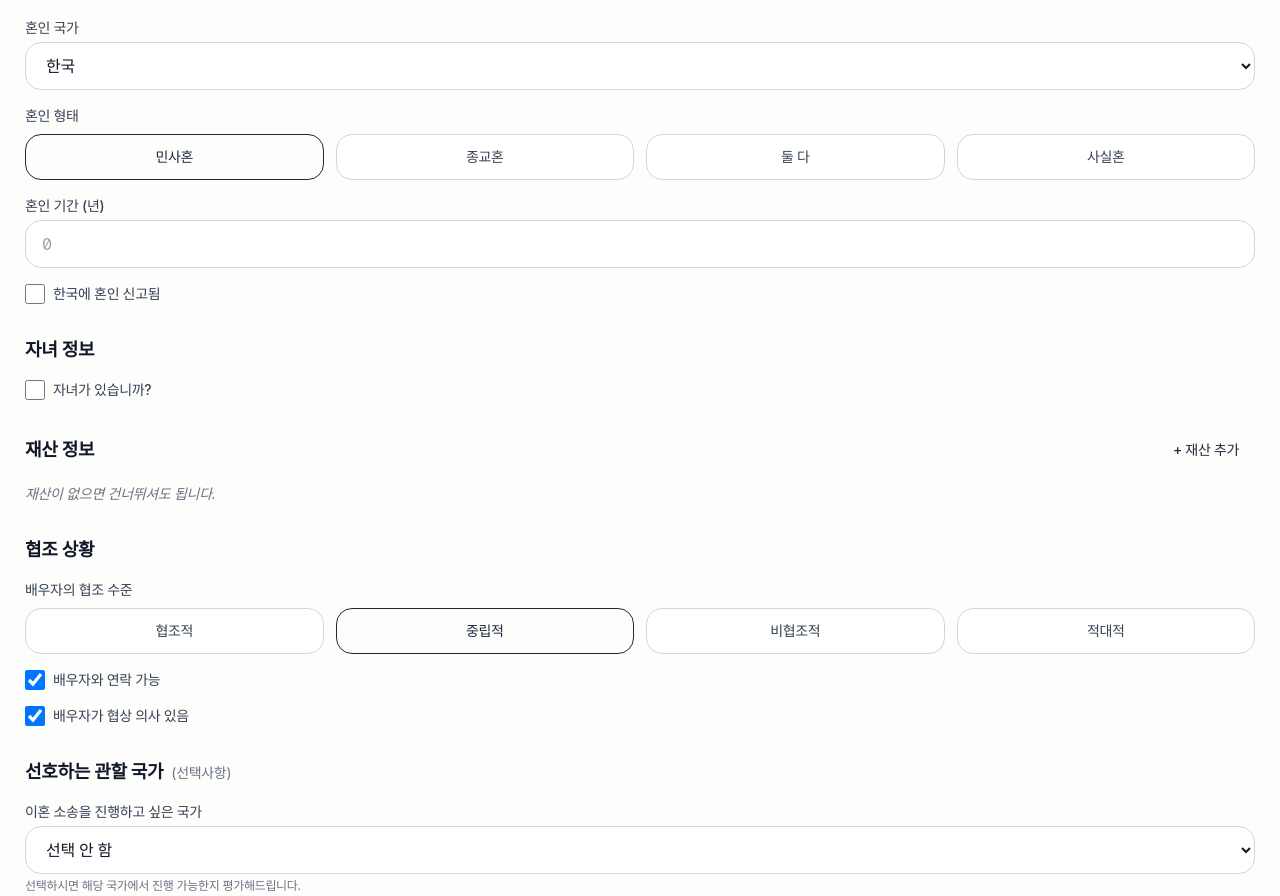
Test case: InternationalDivorceForm › allows adding and removing assets
The width and height of the screenshot is (1280, 896).
(page scrolled)
Check: the text "재산 1" is not shown
# Add an asset
Click the button "+ 재산 추가": (1206, 450) [1157,432,1255,468]
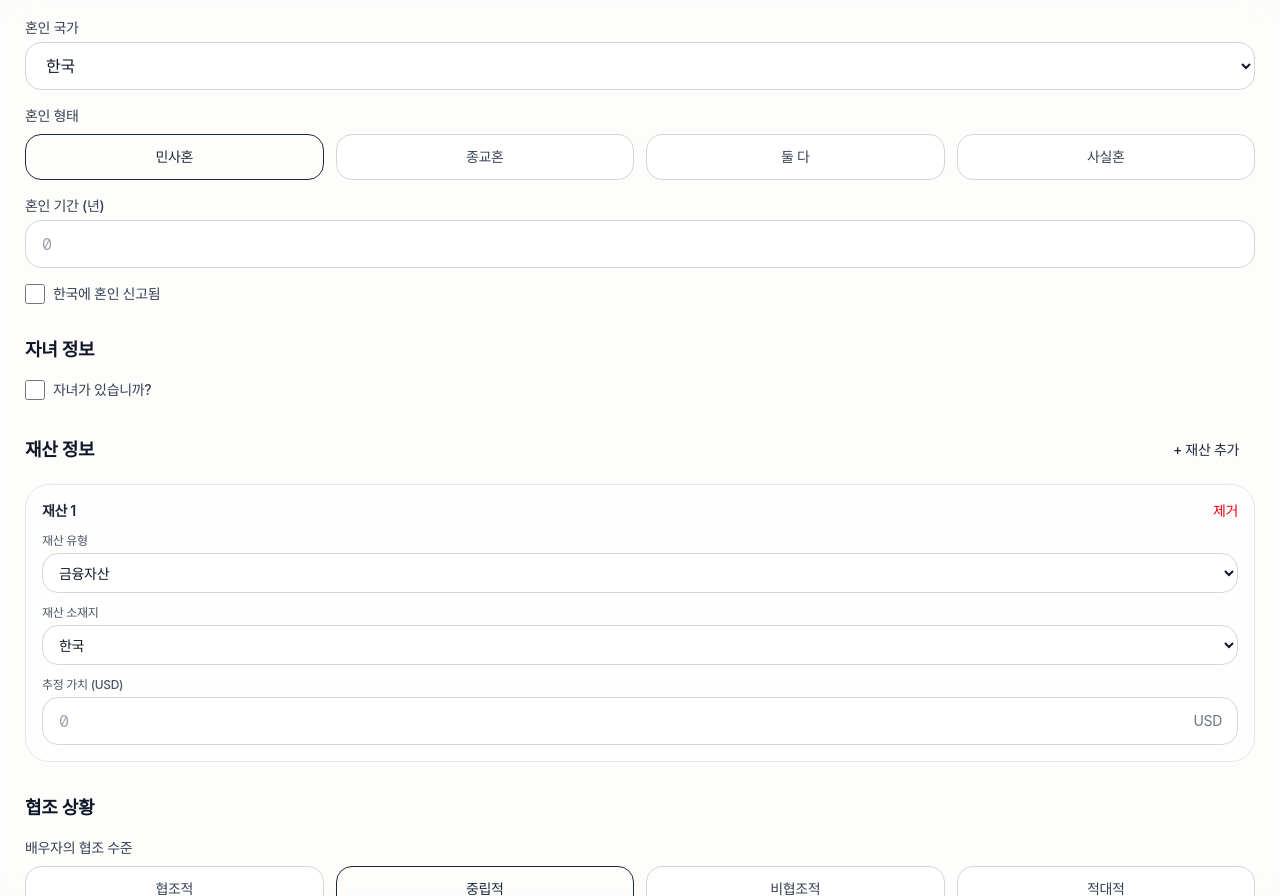
Check: the heading "재산 1" is shown, box [42,501,76,521]
# Add another asset
Click the button "+ 재산 추가": (1206, 450) [1157,432,1255,468]
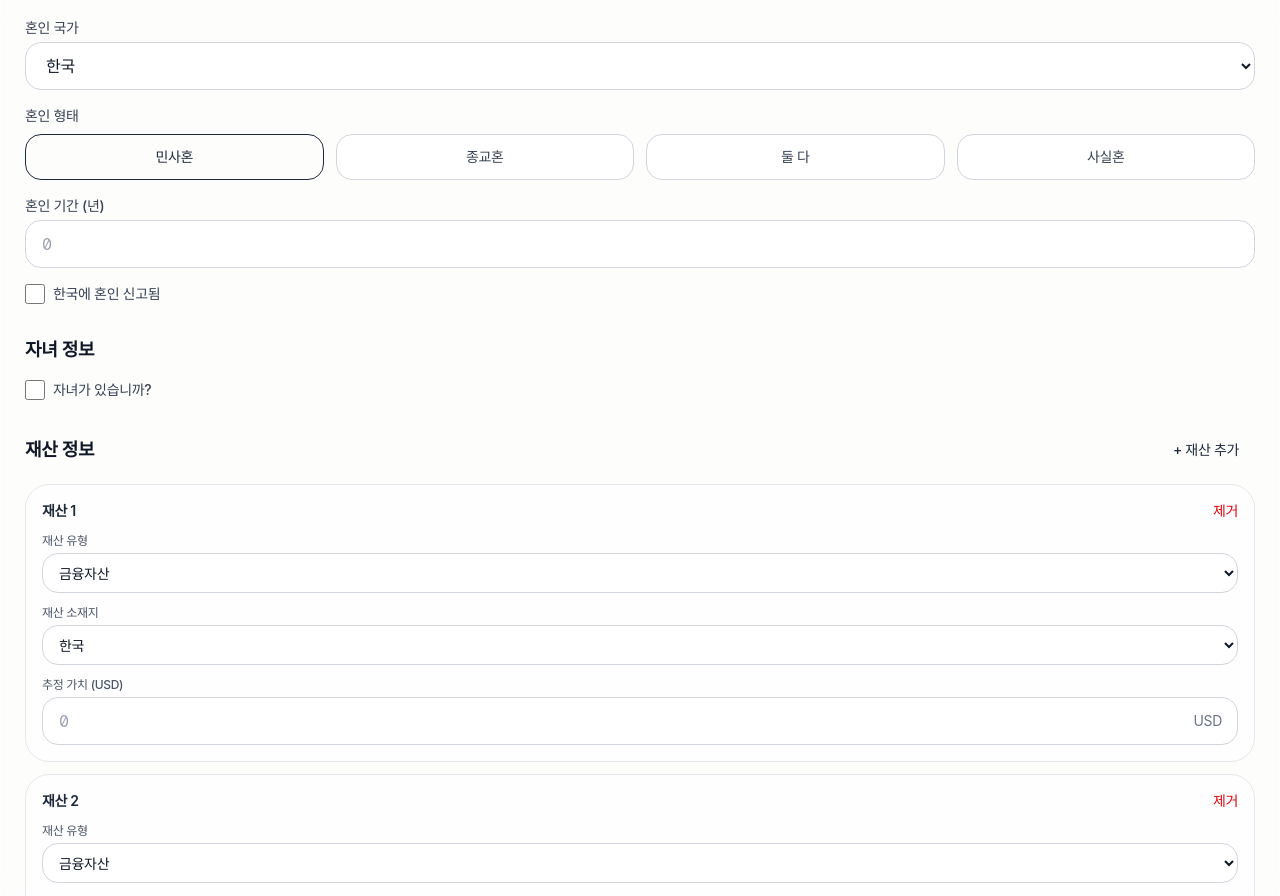
Check: the heading "재산 2" is shown, box [42,791,79,811]
# Remove first asset (index 0)
Click the 1st button "제거": (1225, 511) [1213,501,1238,521]
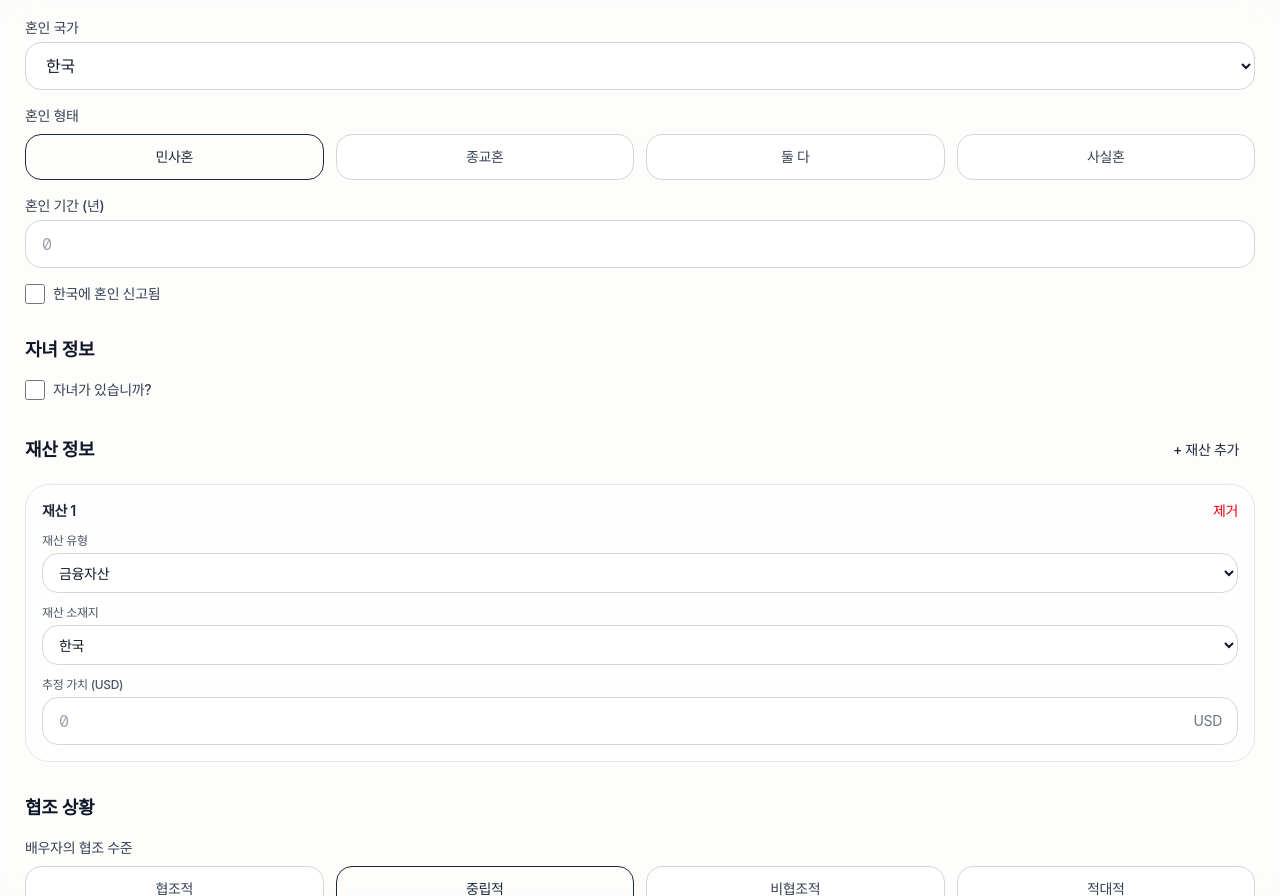
Check: the heading "재산 1" is shown, box [42,501,76,521]
Check: the heading "재산 2" is gone
